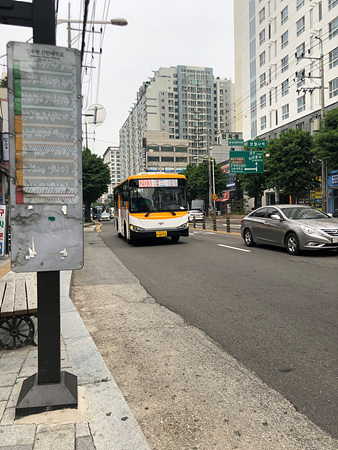bnum: (139, 179, 152, 186)
